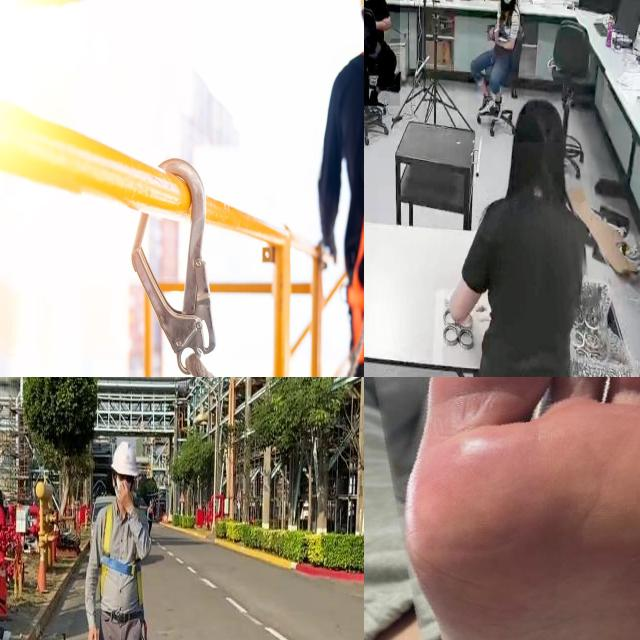Barefoots: (406, 377, 640, 640)
Harness: (100, 505, 143, 608)
face_mask: (501, 0, 515, 10)
hand_noglove: (488, 25, 496, 42)
head_nohelmet: (511, 98, 564, 143)
person: (445, 84, 632, 377), (468, 0, 525, 115), (364, 0, 400, 106)
shoes: (490, 92, 506, 121), (477, 89, 492, 115)
